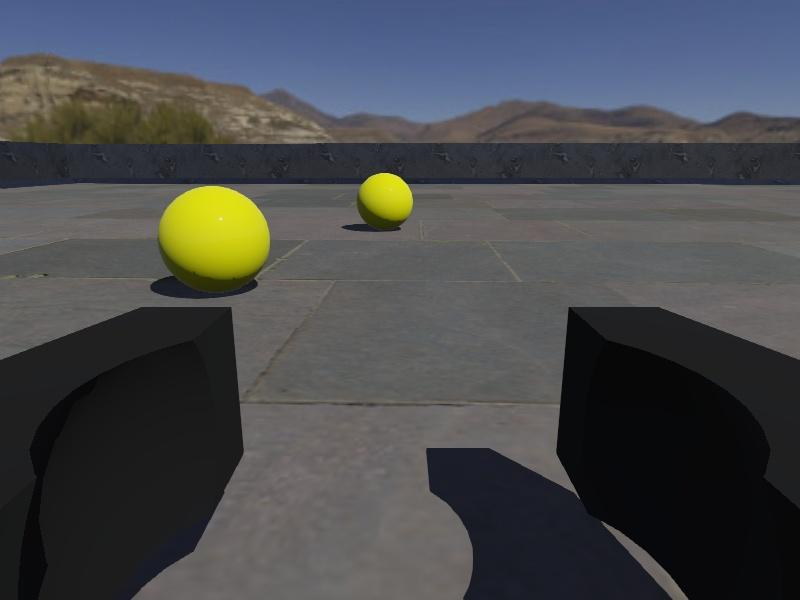yellow ball: (157, 185, 271, 293), (356, 172, 415, 230)
